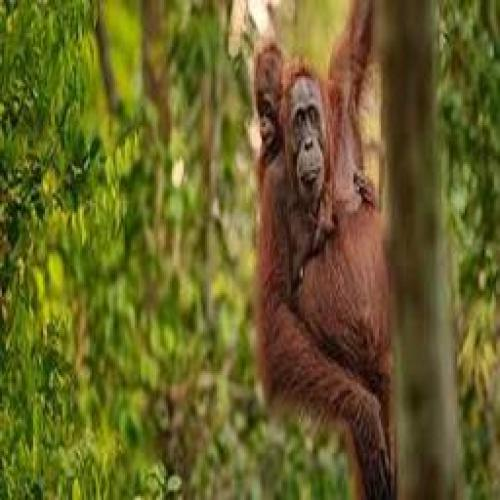orangutan-endangered: (246, 0, 399, 495), (252, 42, 292, 159)
